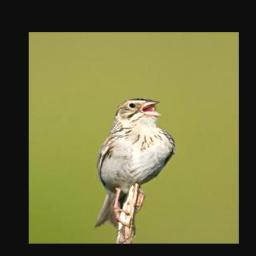Sparrow: (92, 97, 179, 230)
